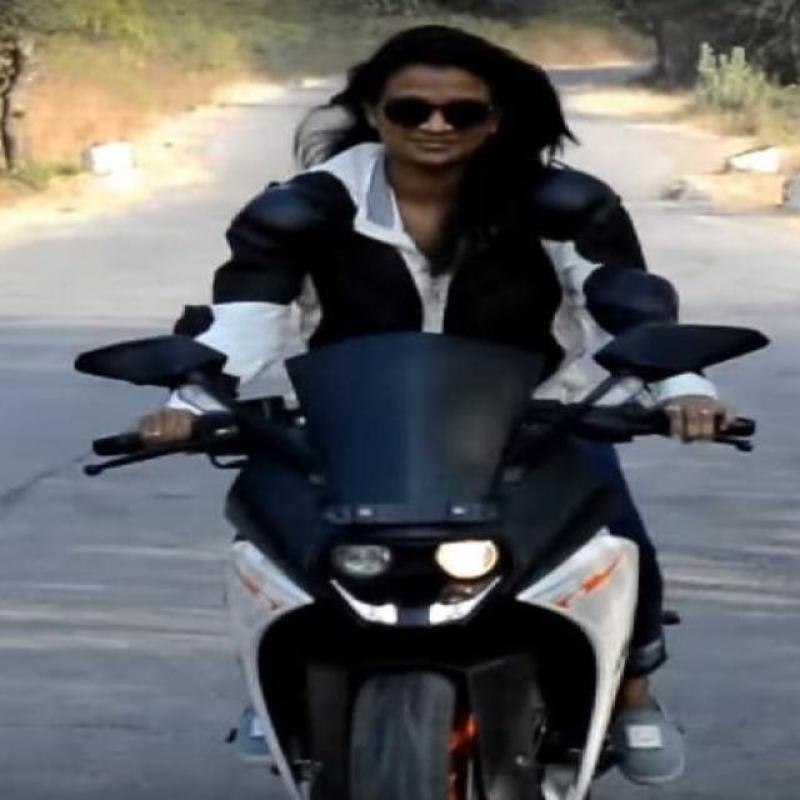nohelmet: (342, 17, 562, 188)
